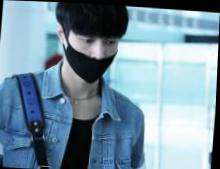WRONG: (71, 31, 120, 79)
